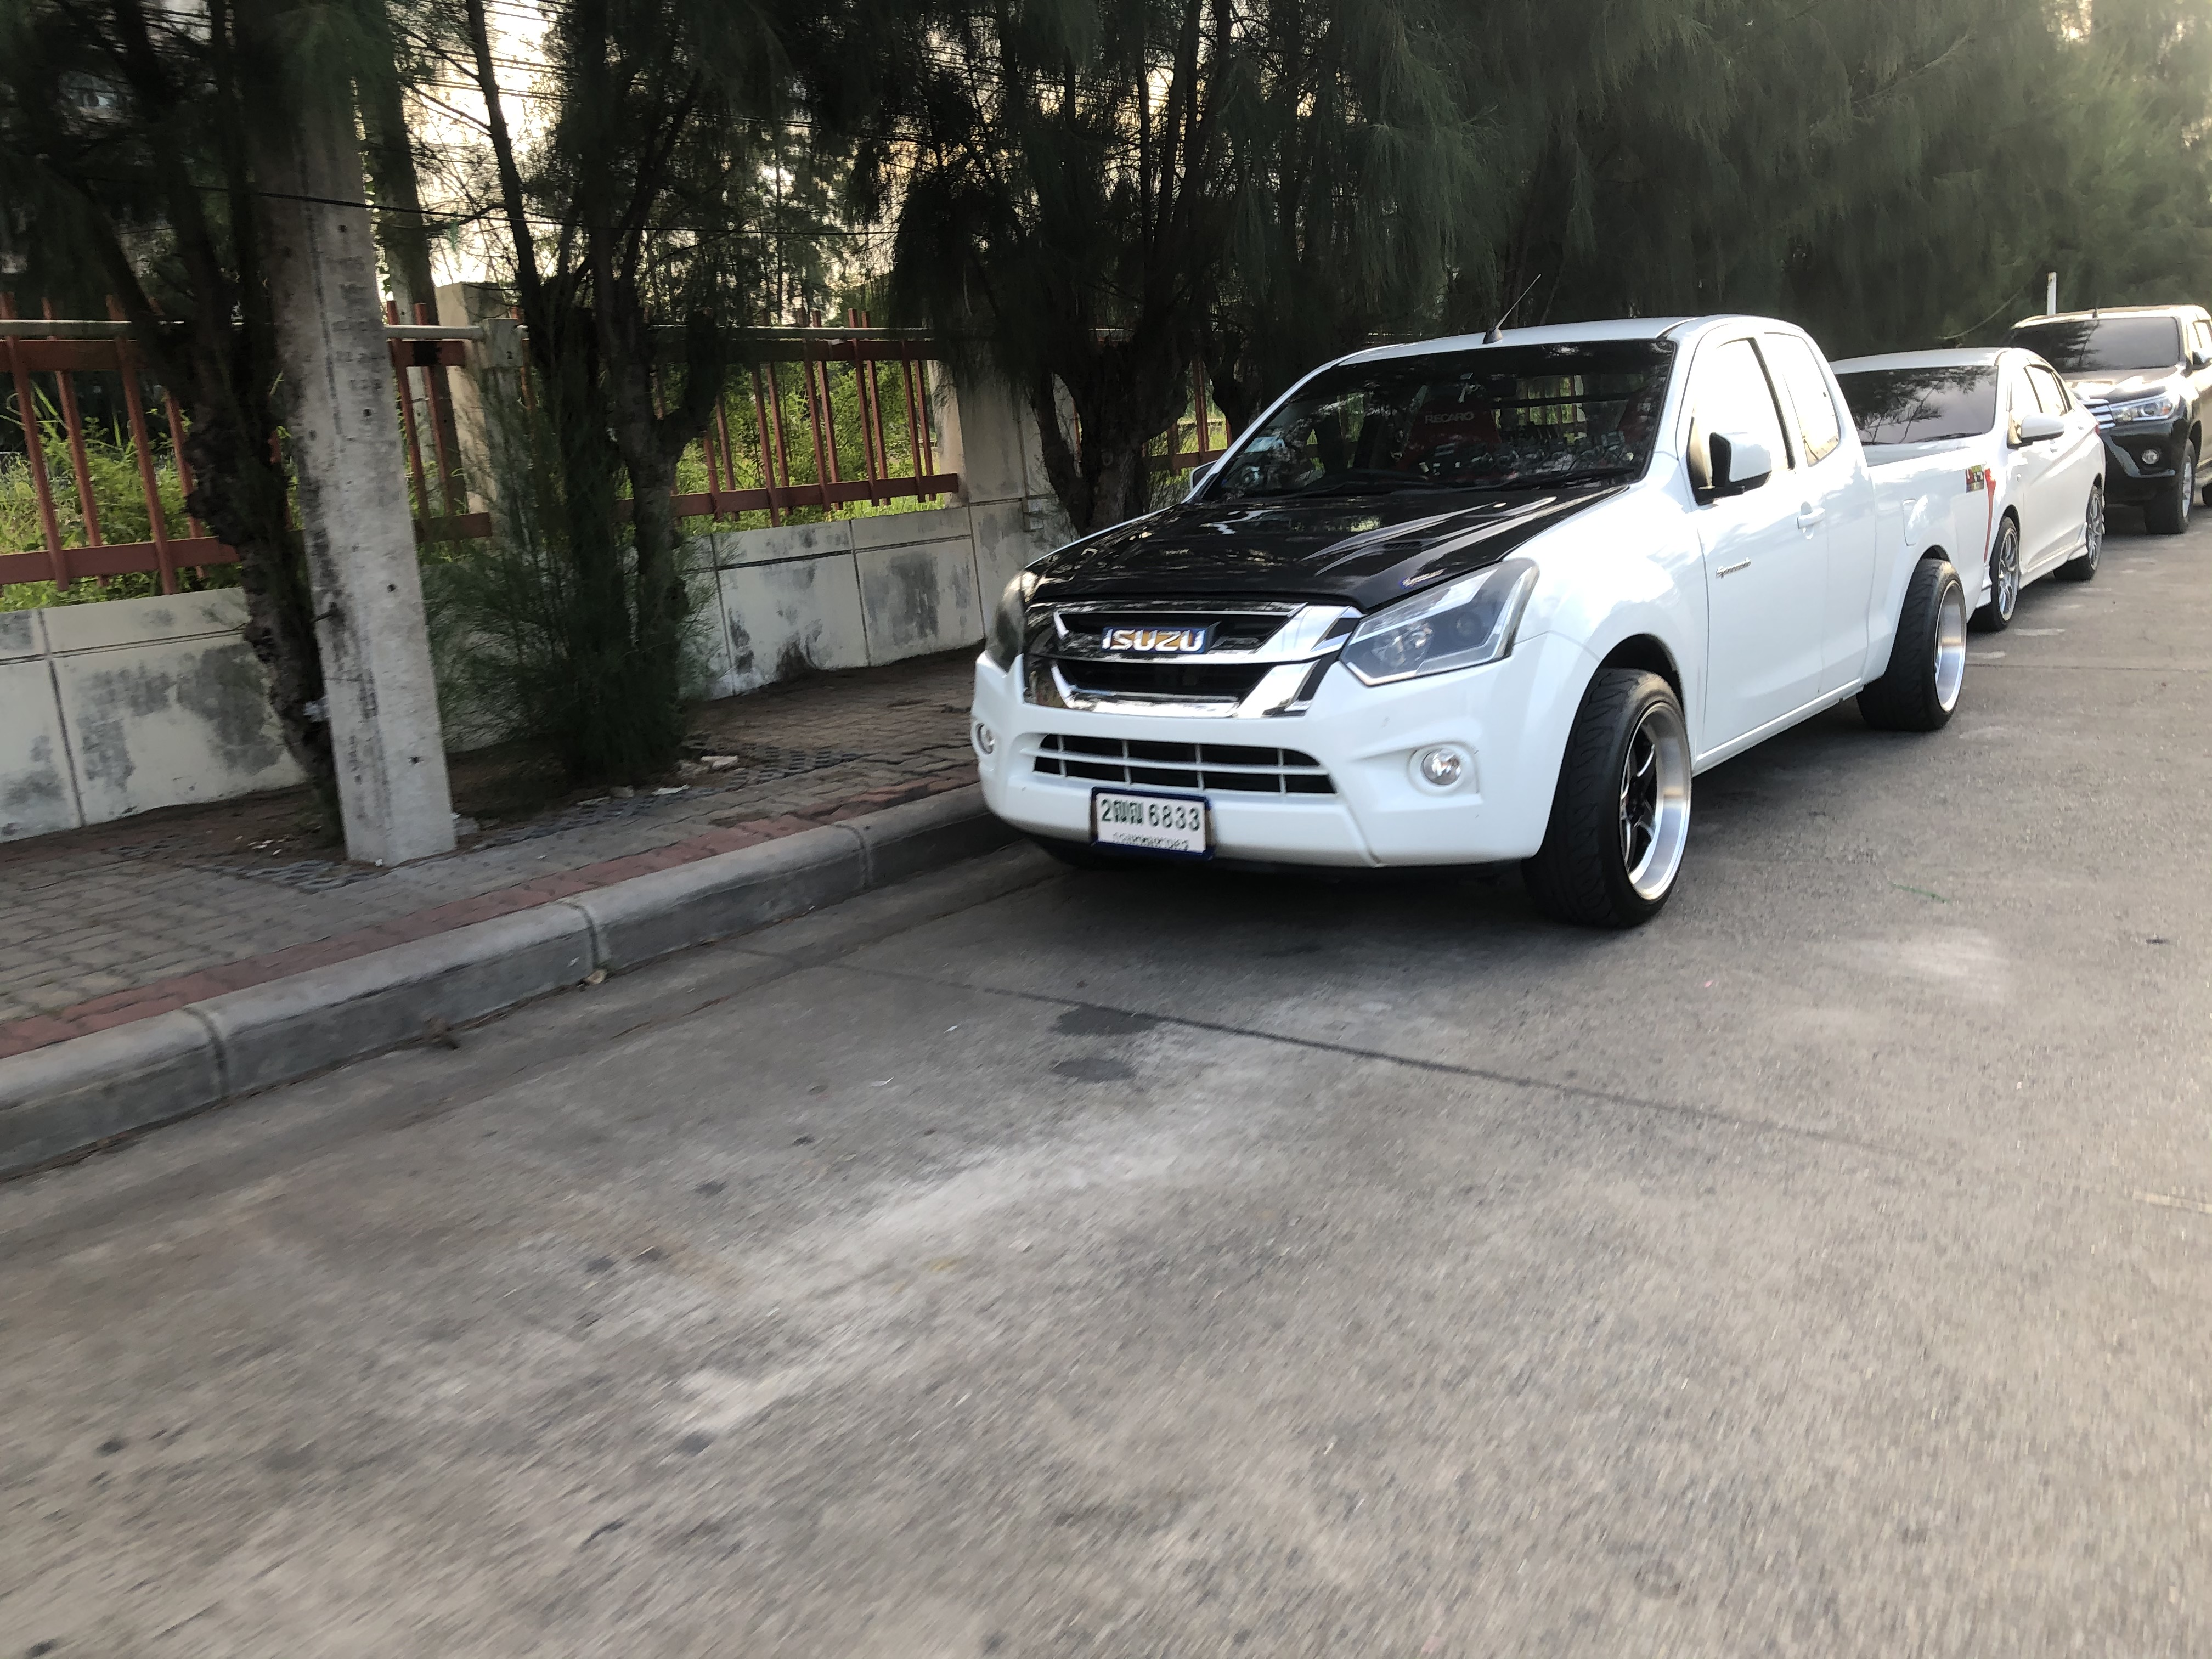in: (1099, 793, 1205, 850)
out: (1087, 782, 1217, 859)
